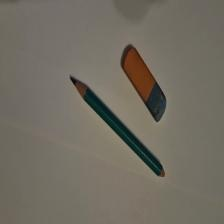eraser: (122, 48, 167, 124)
pencil: (71, 78, 166, 179)
